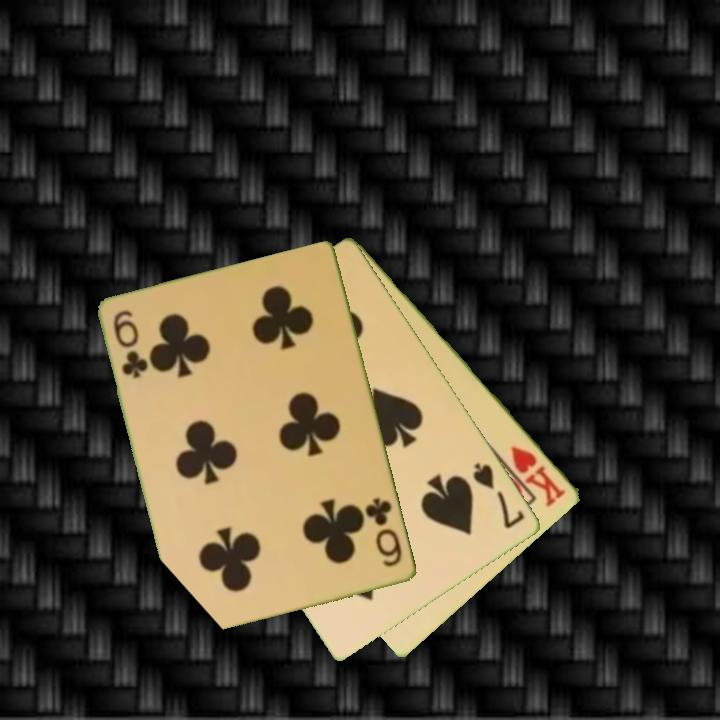6c: (362, 494, 406, 570), (110, 307, 150, 382)
7s: (469, 459, 529, 532)
Kh: (507, 442, 569, 510)
